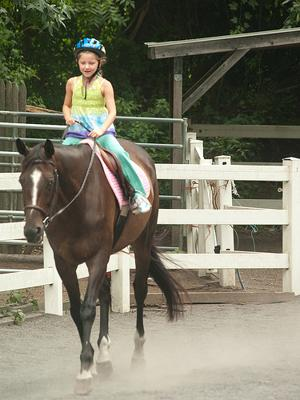person: (63, 38, 153, 218)
